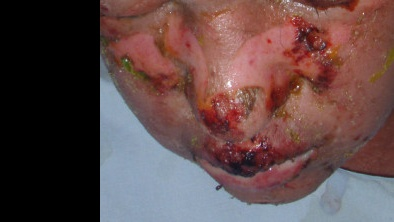SJS-TEN: (98, 0, 394, 213)
